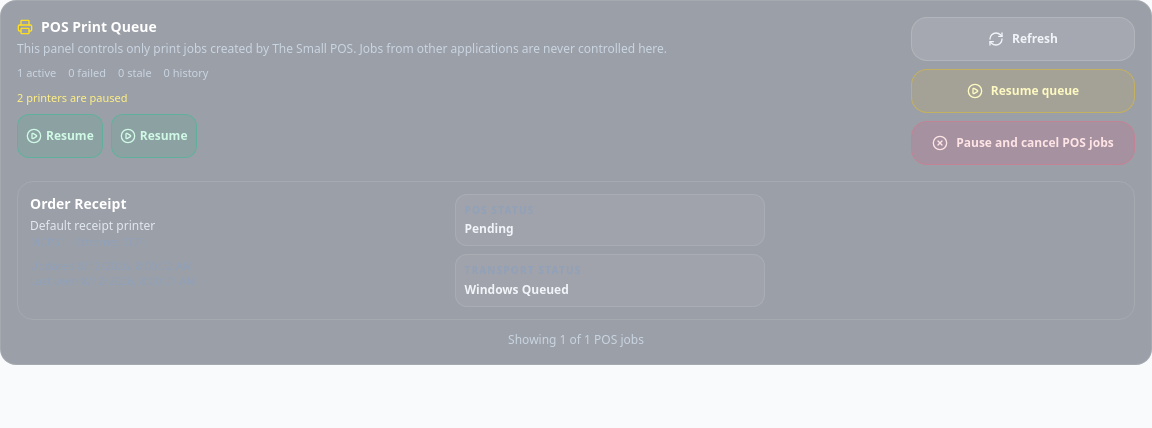
Test: PrintQueuePanel managed POS controls › offers indexed Resume controls for unseen paused profiles without exposing or inventing names
This screenshot has width=1152, height=428.
Expected: the text "2 printers are paused" is shown, [17,90,128,104]
Click the button with aria-label "Resume paused printer 1" at (60, 136), box [17,114,103,158]
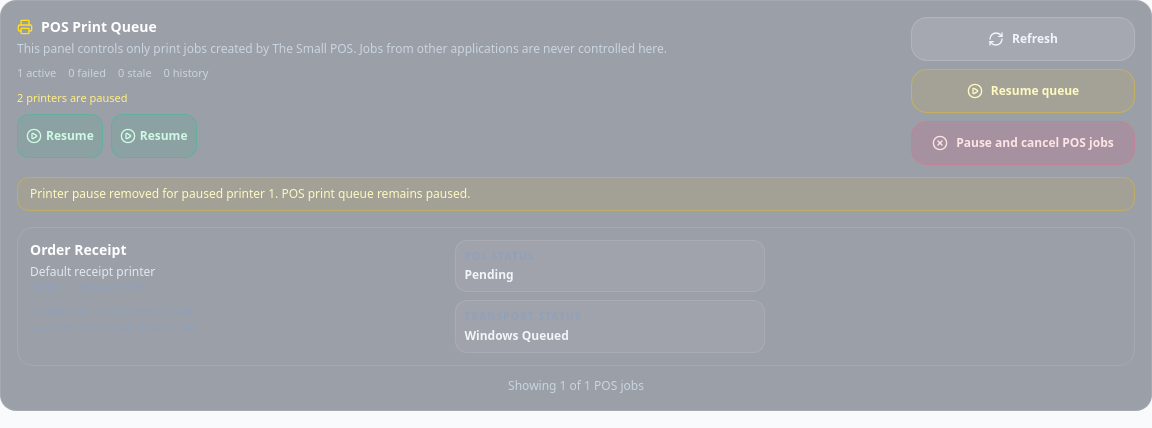
Expected: the message named "Print queue action result" reads "Printer pause removed for paused printer 1. POS print queue remains paused.", [30,185,470,202]
